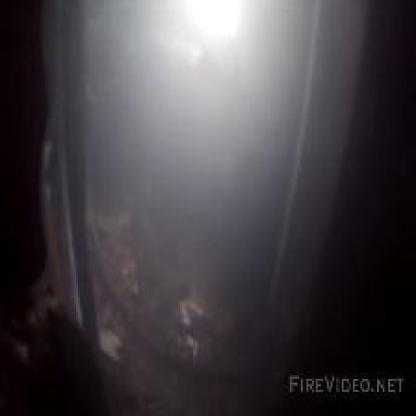other: (157, 1, 266, 64)
